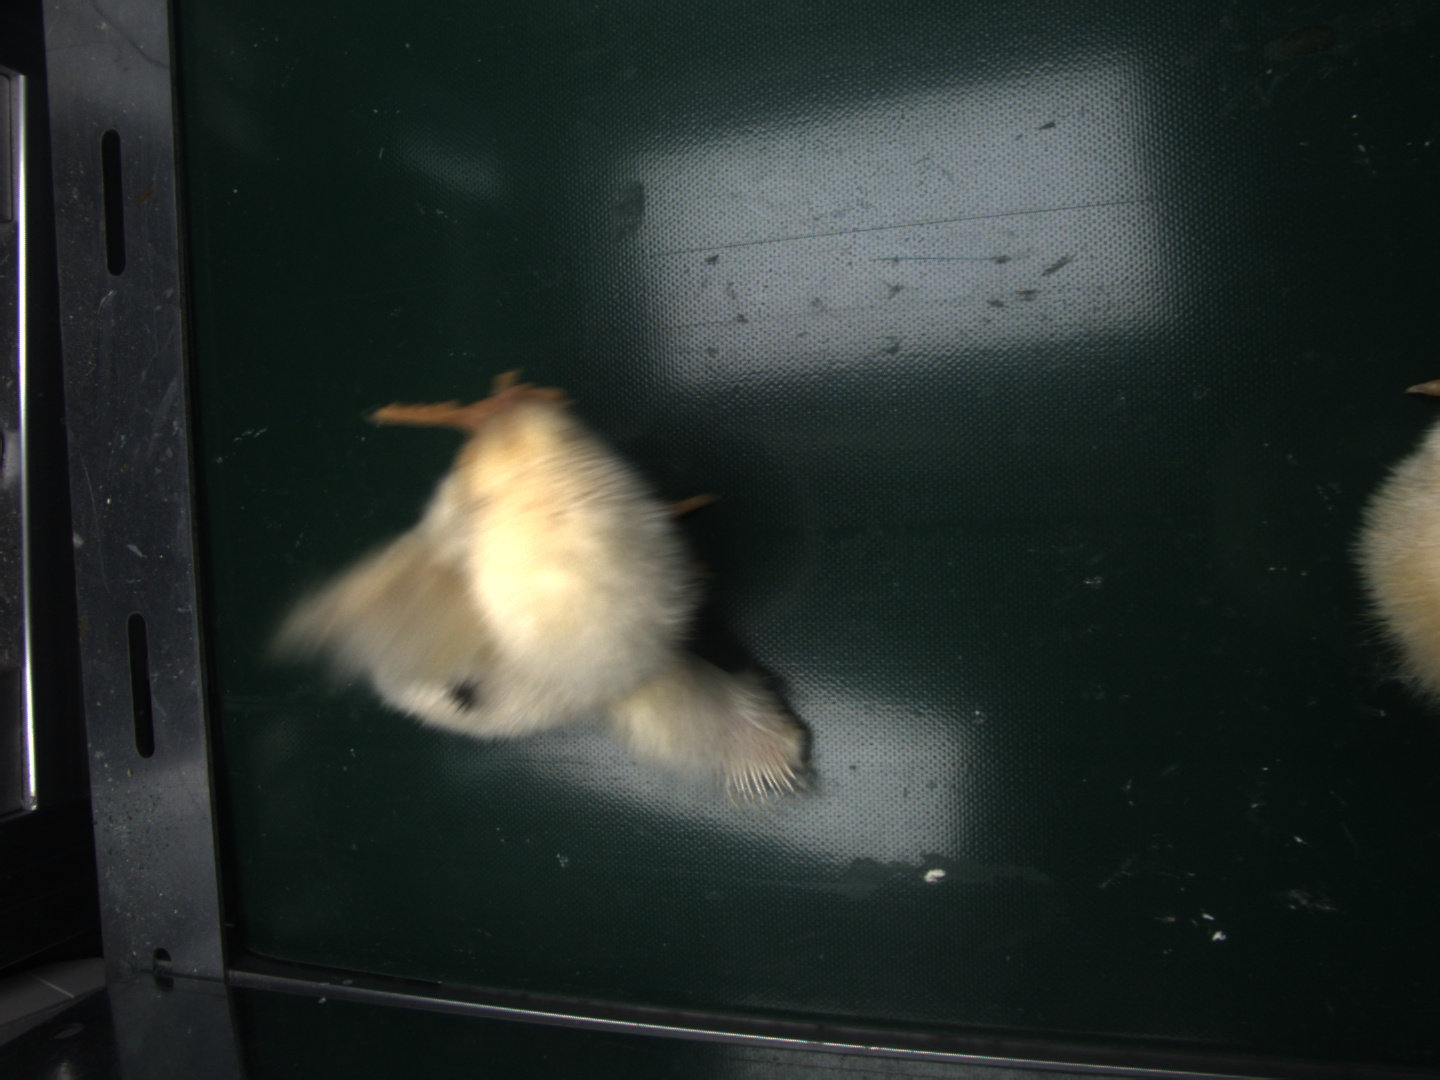male: (728, 751, 804, 801)
